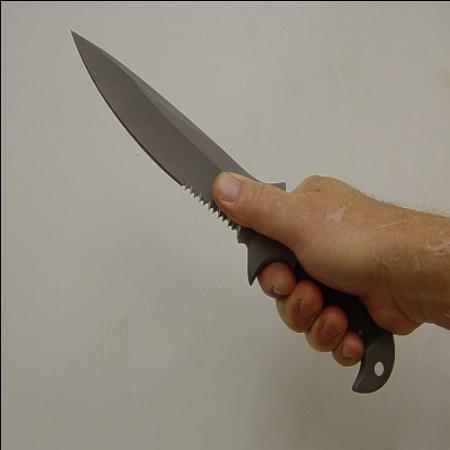long weapon: (64, 20, 359, 362)
